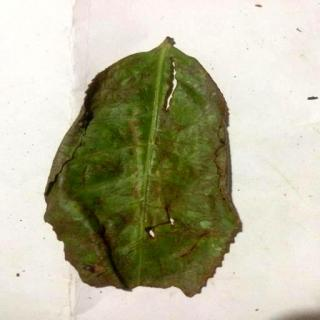Red Leaf Spot: (44, 37, 244, 298)
